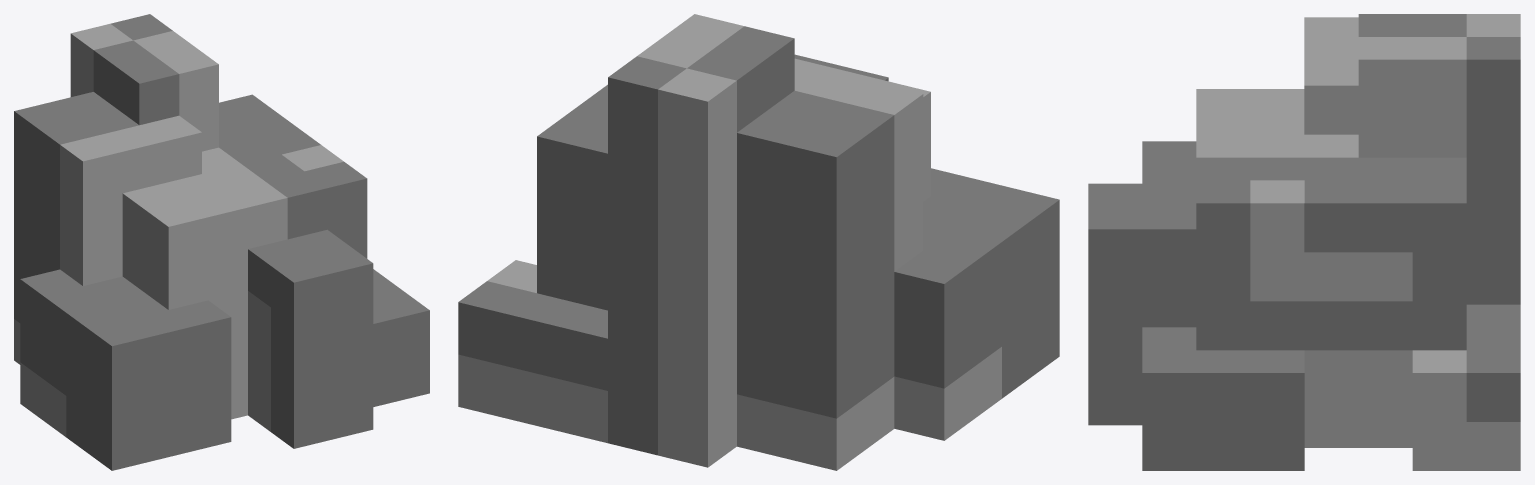
Rendered from stone_1.obj.
The picture shows the model from 3 angles, left to right: view 1: azimuth 30°, elevation 25°; view 2: azimuth 150°, elevation 25°; view 3: azimuth 270°, elevation 25°; orthographic projection. The views are drawn at different scales.
Size of the model in its own units: 0.8 by 0.7 by 0.8.
1 material, 1 textured.
